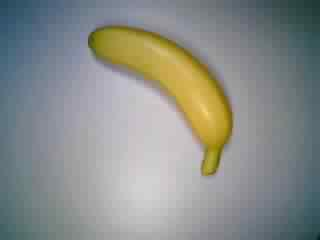banana: (85, 20, 237, 185)
